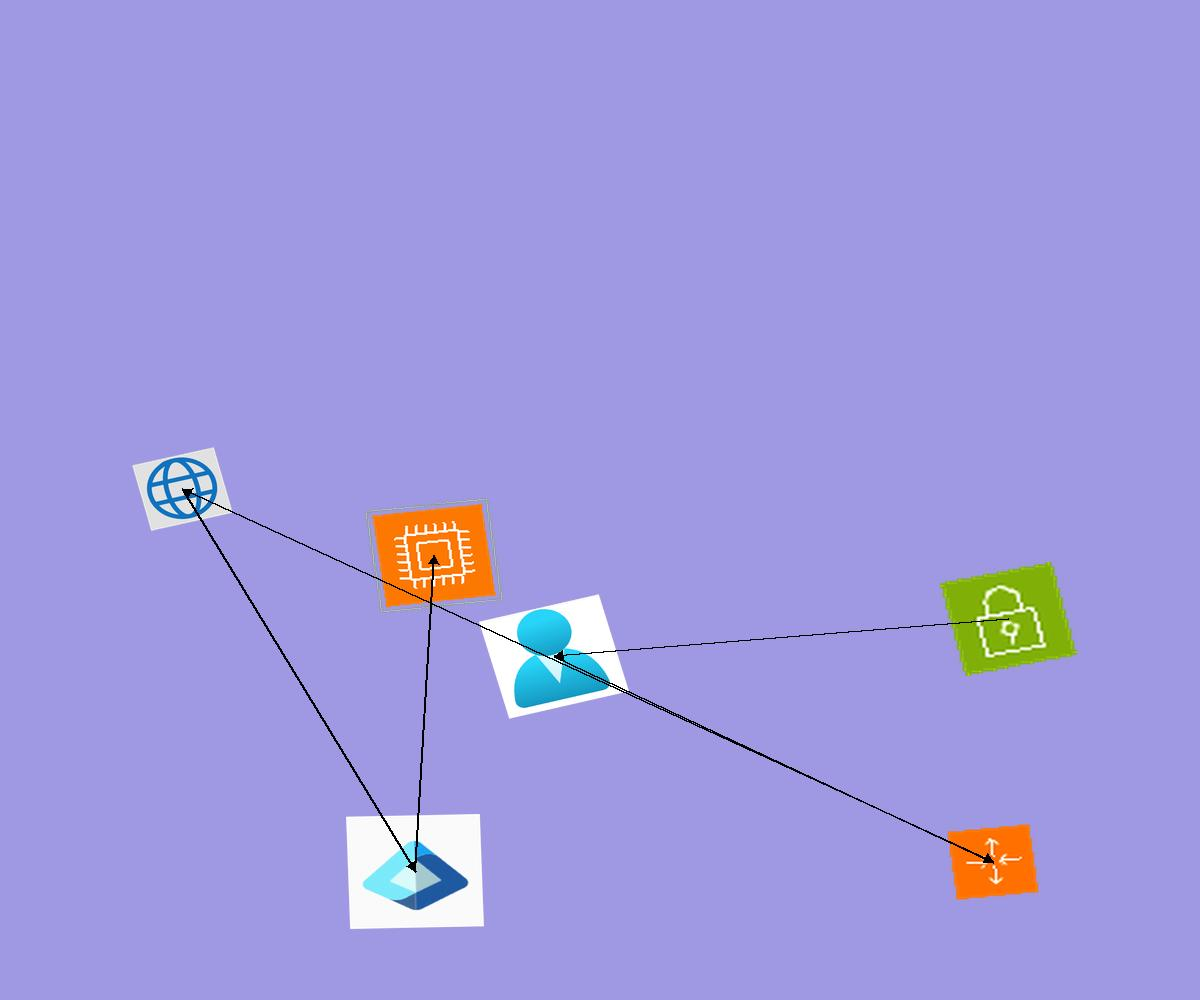AWS-Category_Compute: (364, 497, 504, 614)
AWS-Public-subnet: (940, 562, 1077, 676)
AWS-Scaling-group: (946, 823, 1040, 901)
Azure_http: (132, 447, 233, 531)
Azure_microsoft_entra: (346, 814, 484, 929)
Azure_users: (479, 594, 629, 719)
